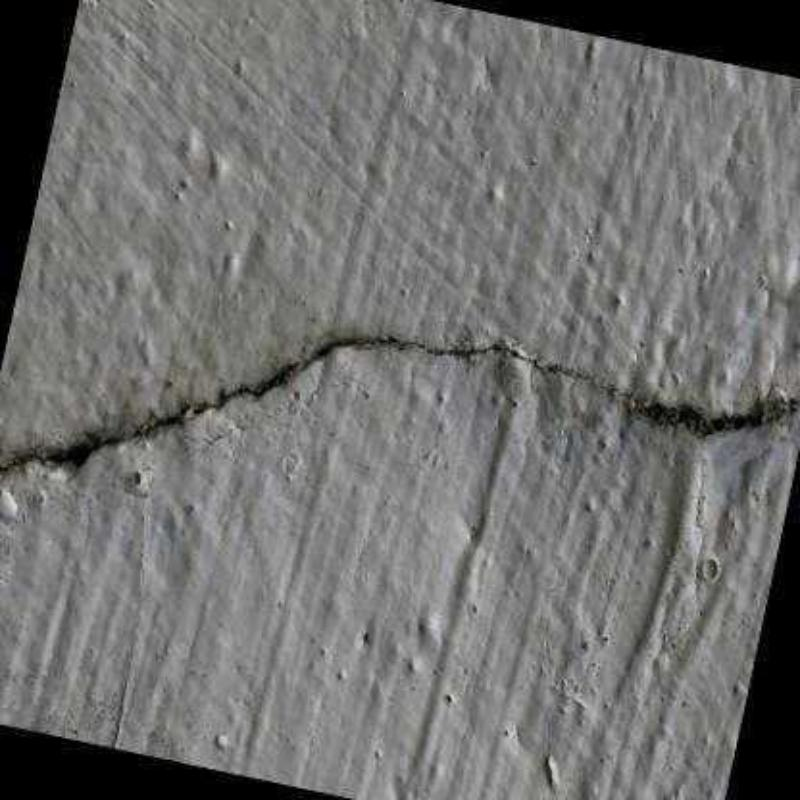pothole: (0, 331, 800, 473)
